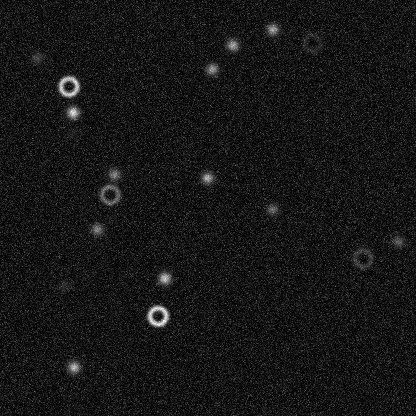Ring: (97, 182, 121, 206), (145, 303, 169, 327), (350, 246, 374, 270), (56, 74, 80, 98), (300, 30, 324, 54)
Spot: (64, 124, 80, 140), (264, 21, 280, 37), (64, 104, 80, 120), (390, 233, 406, 249), (106, 166, 122, 182), (65, 359, 81, 375), (199, 169, 215, 185), (264, 201, 280, 217), (203, 61, 219, 77), (156, 270, 172, 286), (224, 36, 240, 52), (89, 221, 105, 237), (29, 49, 45, 65), (55, 277, 71, 293)
